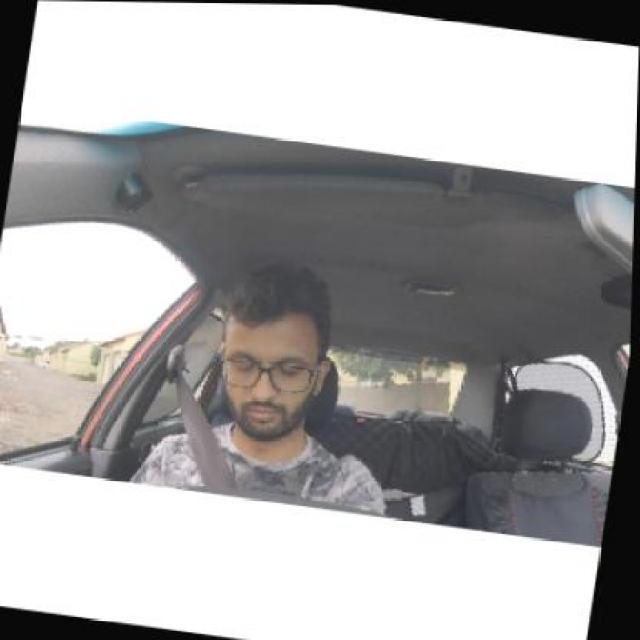drowsy: (217, 287, 338, 435)
